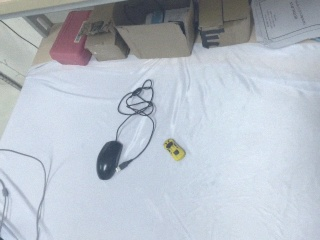box: (112, 1, 195, 63), (49, 7, 95, 69), (196, 1, 253, 49), (84, 4, 128, 65)
mouse: (96, 141, 123, 180)
toy_car: (159, 136, 191, 164)
